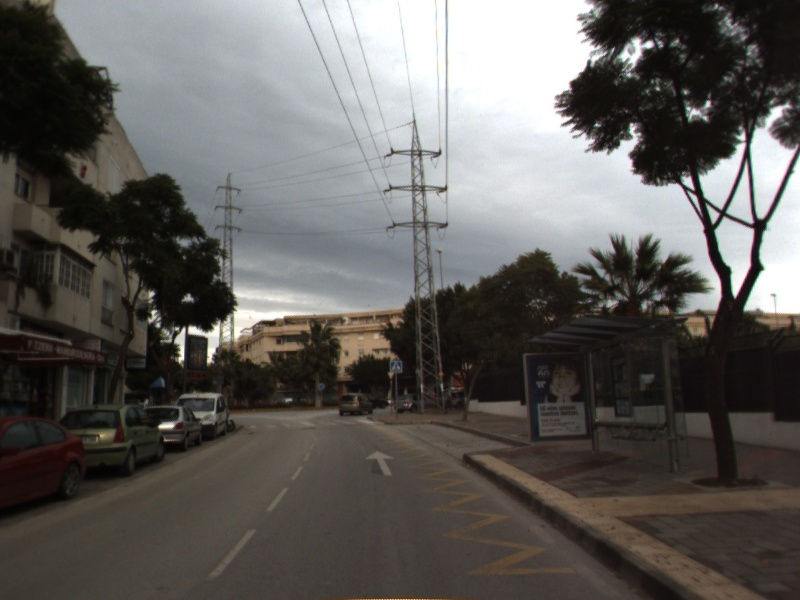STRAIGHT: (364, 448, 397, 477)
